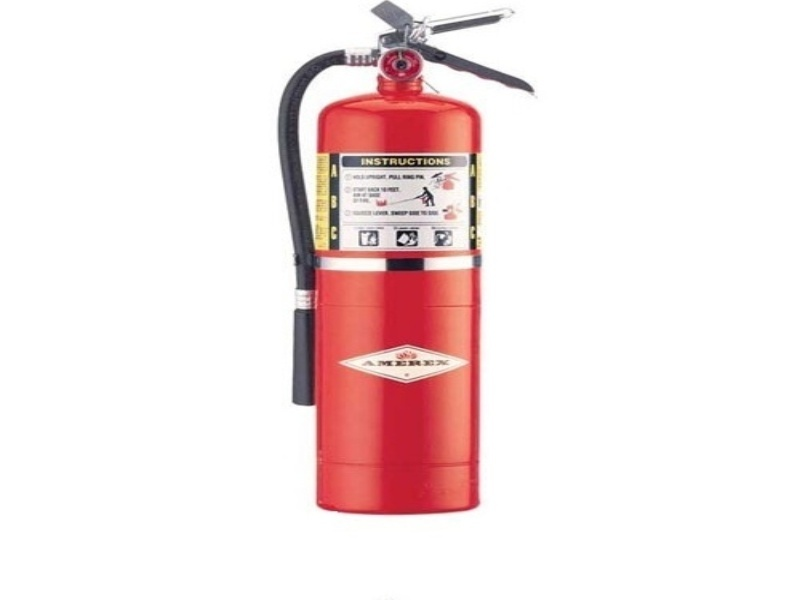fire_extinguisher: (256, 3, 541, 520)
